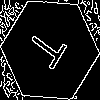T: (25, 25, 75, 76)
